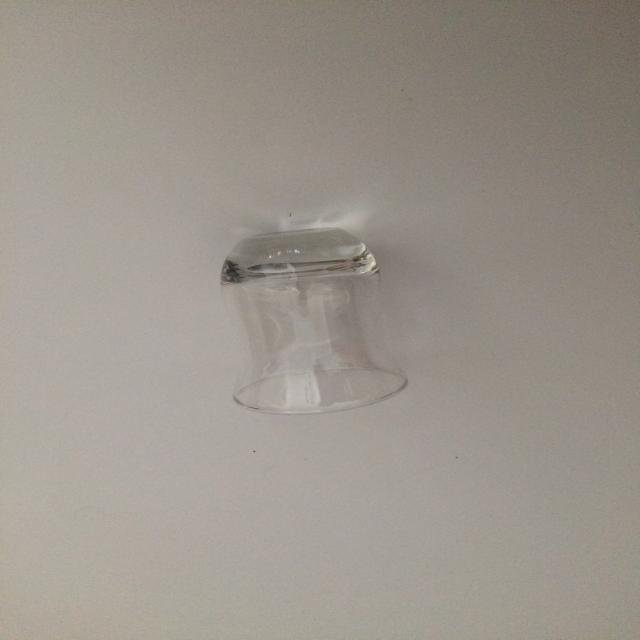glass: (210, 236, 412, 416)
